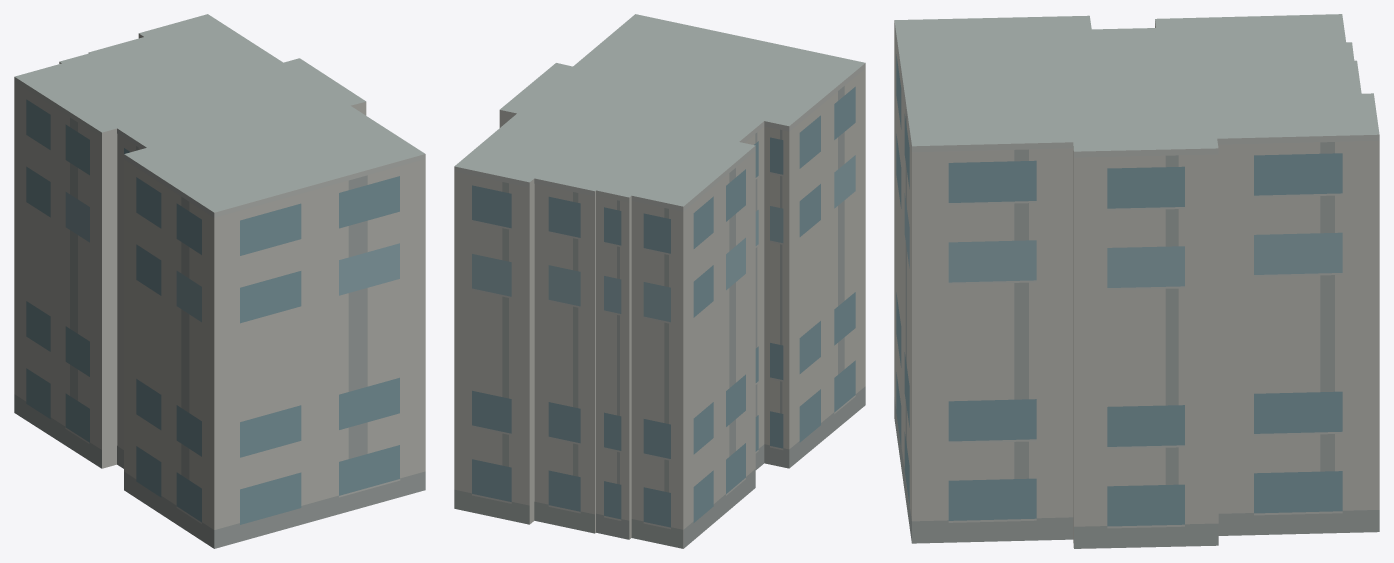
Rendered from survey-upis-32769082.glb.
3 views of the same model, side by side, from view 1: azimuth 30°, elevation 25°; view 2: azimuth 150°, elevation 25°; view 3: azimuth 270°, elevation 25° (orthographic). The views are drawn at different scales.
Visible parts, largest first — view 1: survey-upis-32769082.tmp; view 2: survey-upis-32769082.tmp; view 3: survey-upis-32769082.tmp.
Boxes of the visible parts, x1,y1,x2,y2 form: survey-upis-32769082.tmp: [14, 14, 425, 548]; survey-upis-32769082.tmp: [454, 14, 865, 548]; survey-upis-32769082.tmp: [894, 14, 1379, 548].
Bounding box in the file's own units: 11.75 × 15.8 × 17.5.
